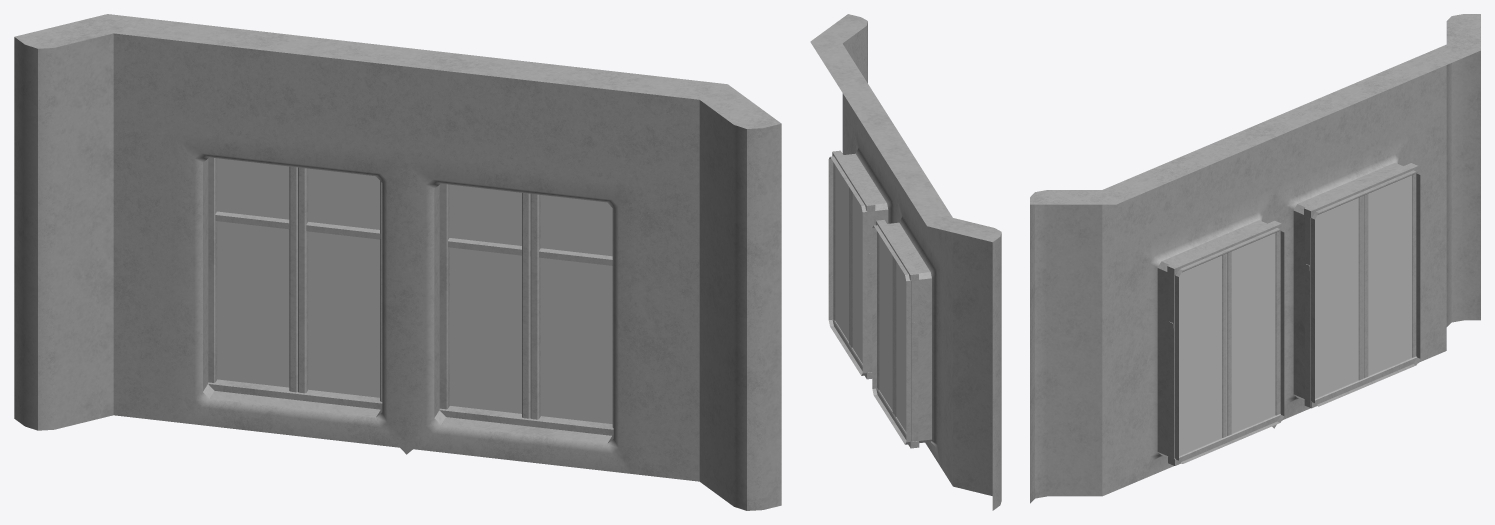
The model's file is SM_Wall7.fbx.
The picture shows the model from 3 angles, left to right: view 1: azimuth 30°, elevation 25°; view 2: azimuth 150°, elevation 25°; view 3: azimuth 270°, elevation 25°; orthographic projection. The views are drawn at different scales.
Visible parts, largest first — view 1: SM_Wall7_LOD0; view 2: SM_Wall7_LOD0; view 3: SM_Wall7_LOD0.
Boxes of the visible parts, x1,y1,x2,y2 form: SM_Wall7_LOD0: (14,14,781,510); SM_Wall7_LOD0: (810,14,1001,510); SM_Wall7_LOD0: (1030,14,1480,503).
Size of the model in its own units: 400 by 400 by 305.
